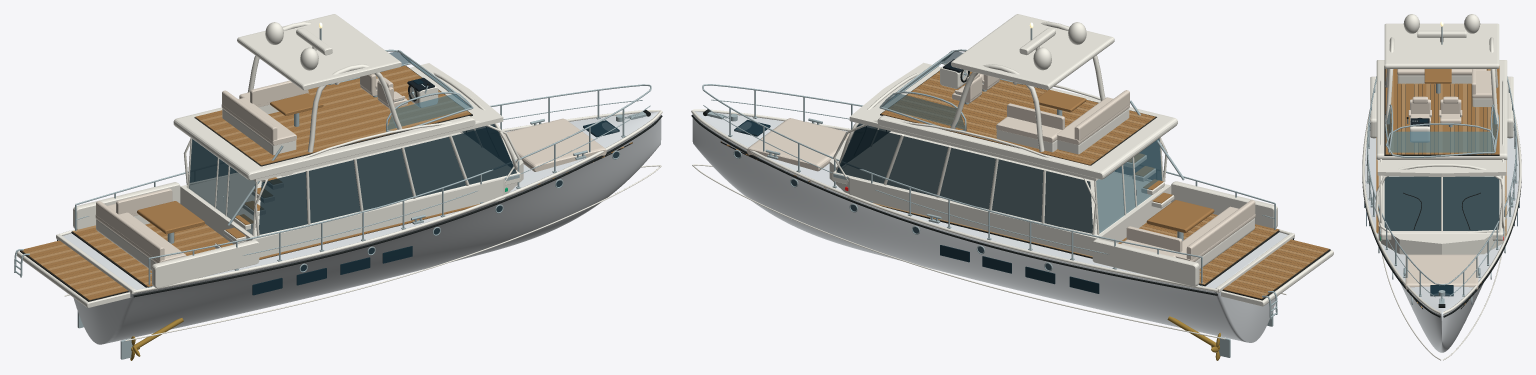
Rendered from motor-yacht.glb.
The picture shows the model from 3 angles, left to right: view 1: azimuth 30°, elevation 25°; view 2: azimuth 150°, elevation 25°; view 3: azimuth 270°, elevation 25°; orthographic projection. The views are drawn at different scales.
Parts seen in each view (by area): view 1: white, paint, blackGlass, teak, cushion, steel, teakLight, glass, rubber, teakDark; view 2: white, paint, blackGlass, teak, cushion, steel, teakLight, glass, rubber, teakDark; view 3: white, blackGlass, paint, teak, cushion, steel, glass, teakLight, teakDark, rubber, dark.
Part boxes in pixels (<box>): white: <box>17,14,662,341</box>; paint: <box>58,111,661,344</box>; blackGlass: <box>190,79,619,295</box>; teak: <box>22,65,632,300</box>; cushion: <box>95,73,606,263</box>; steel: <box>14,28,651,359</box>; teakLight: <box>26,69,624,296</box>; glass: <box>189,52,470,234</box>; rubber: <box>57,83,662,297</box>; teakDark: <box>20,66,632,301</box>; white: <box>691,14,1333,339</box>; paint: <box>692,111,1292,342</box>; blackGlass: <box>734,66,1161,293</box>; teak: <box>721,71,1329,298</box>; cushion: <box>747,73,1255,261</box>; steel: <box>702,28,1277,357</box>; teakLight: <box>735,72,1324,295</box>; glass: <box>882,51,1161,233</box>; rubber: <box>691,69,1294,295</box>; teakDark: <box>720,70,1330,300</box>; white: <box>1362,14,1521,360</box>; blackGlass: <box>1364,119,1519,296</box>; paint: <box>1365,121,1518,352</box>; teak: <box>1376,66,1499,307</box>; cushion: <box>1397,69,1492,289</box>; steel: <box>1366,26,1517,304</box>; glass: <box>1386,106,1497,152</box>; teakLight: <box>1389,69,1506,303</box>; teakDark: <box>1384,66,1499,308</box>; rubber: <box>1362,117,1521,317</box>; dark: <box>1410,118,1429,126</box>.
Bounding box in the file's own units: 19.55 × 8.27 × 5.09.
